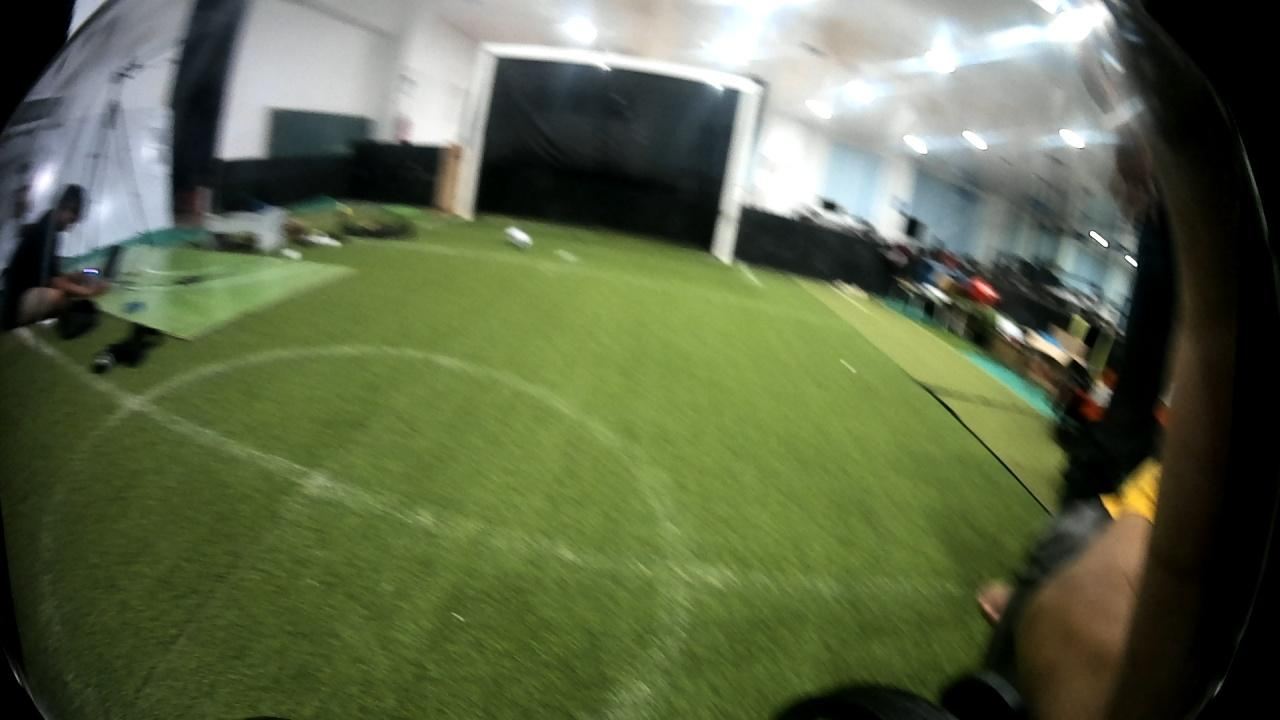ball: (499, 222, 537, 255)
